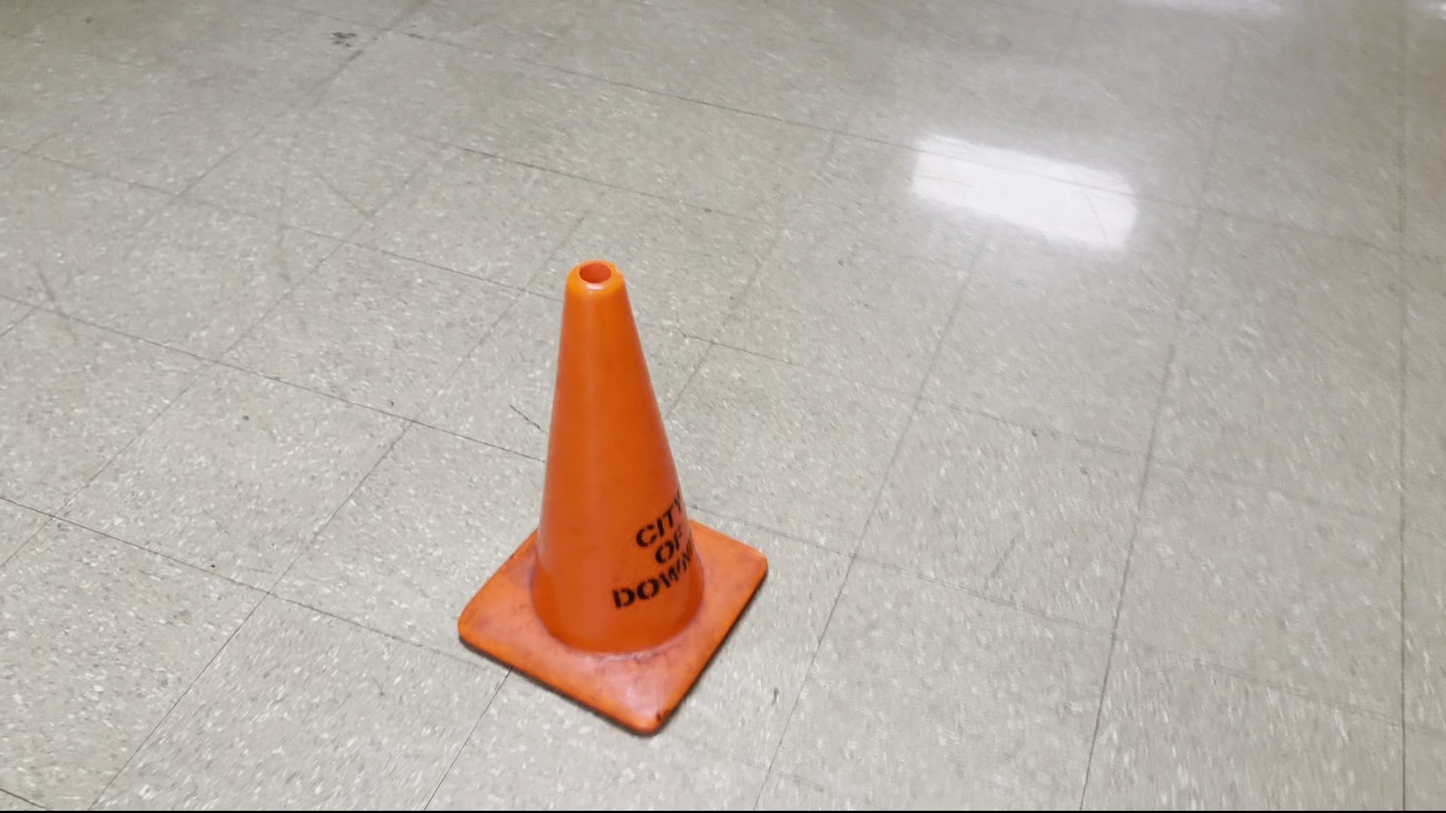traffic_cone: (457, 258, 769, 736)
